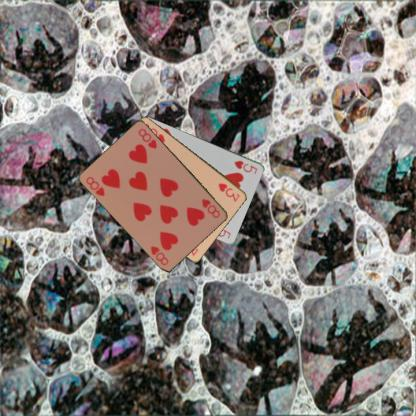3h: (216, 180, 241, 203)
5h: (232, 158, 259, 175)
8h: (83, 174, 106, 198), (200, 196, 222, 219)
